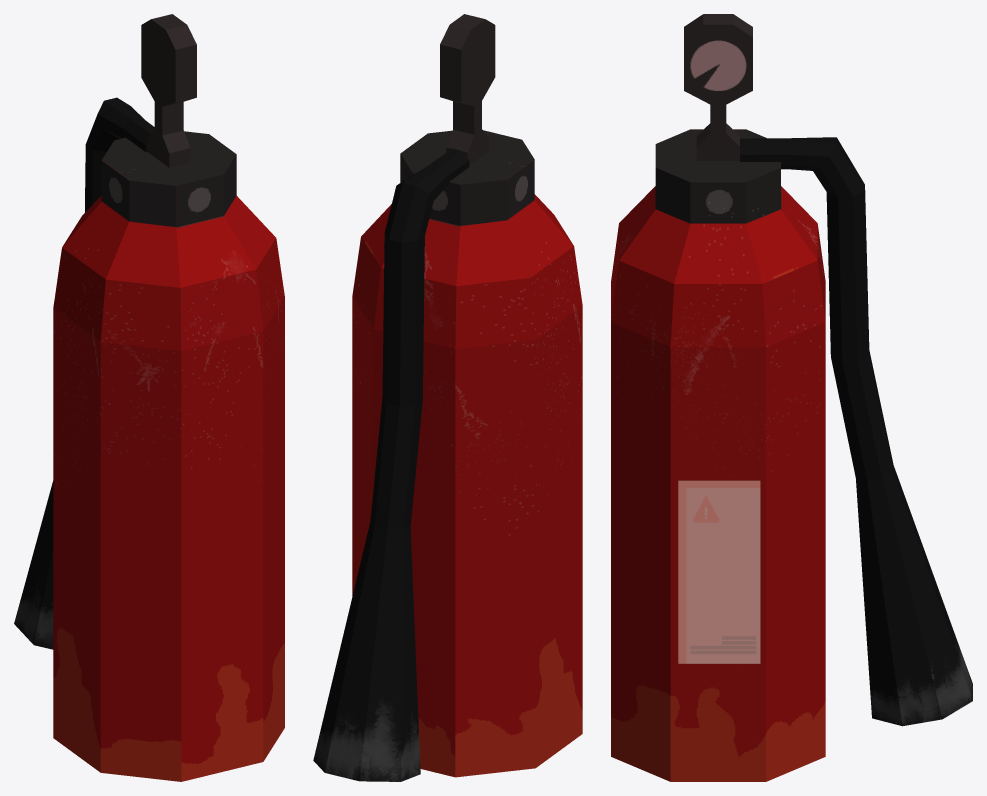
Rendered from fireStopper.obj.
3 renders of one model, left to right at view 1: azimuth 30°, elevation 25°; view 2: azimuth 150°, elevation 25°; view 3: azimuth 270°, elevation 25°, orthographic.
Visible parts, largest first — view 1: Cube, Cube.002, Cube.001; view 2: Cube, Cube.002, Cube.001; view 3: Cube, Cube.002, Cube.001.
Part boxes in pixels (x1,y1,x2,y2): Cube: (53,131,284,781); Cube.002: (14,97,154,649); Cube.001: (141,14,196,167); Cube: (352,130,582,777); Cube.002: (313,148,469,781); Cube.001: (440,14,495,165); Cube: (611,129,825,781); Cube.002: (740,137,972,726); Cube.001: (684,14,752,160).
Bounding box in the file's own units: 2 × 7.38 × 3.37.
3 materials, 3 textured.
